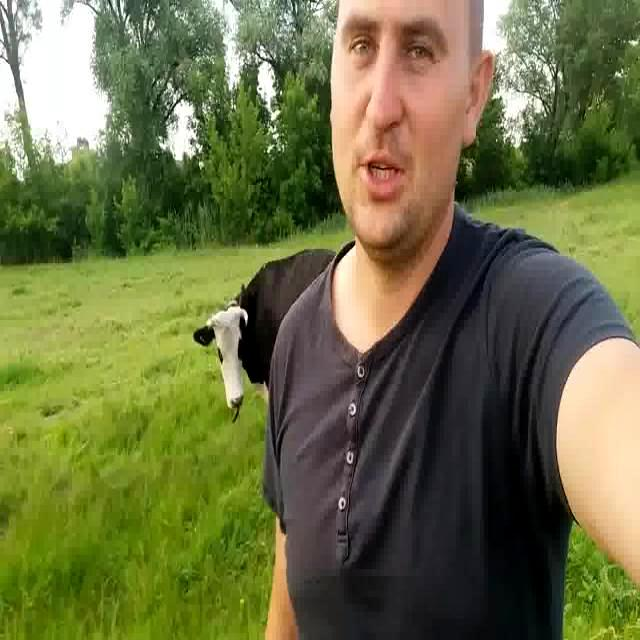COW: (194, 250, 334, 419)
